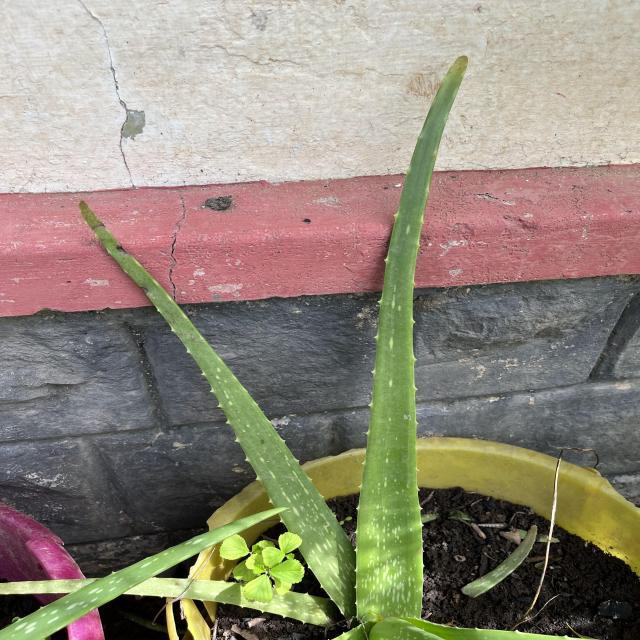Aloe vera: (348, 48, 476, 626)
